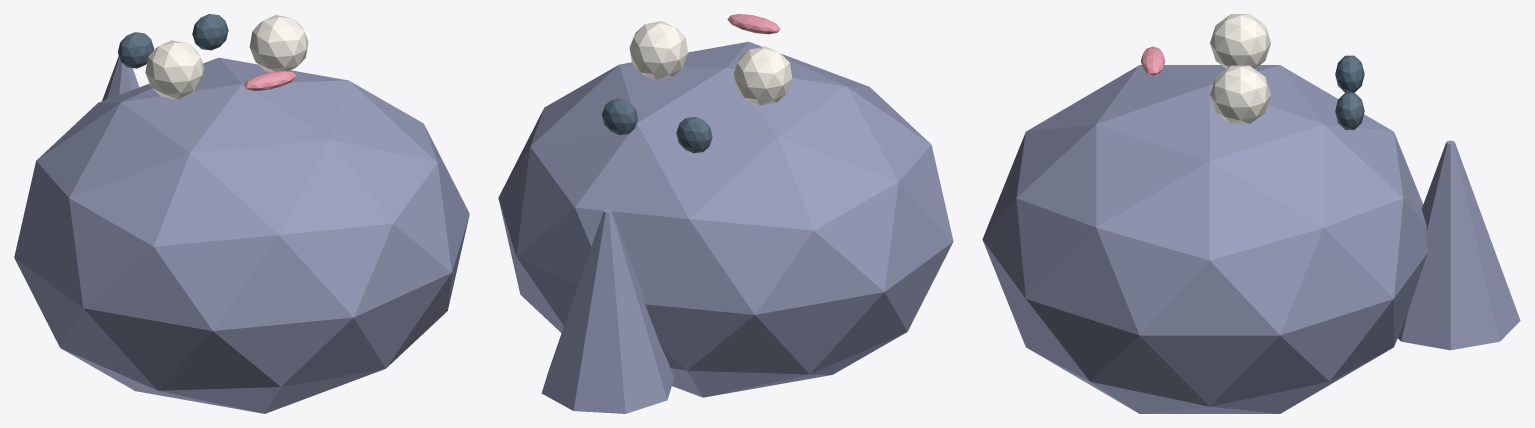
File: misdreavus.glb
3 renders of one model, left to right at view 1: azimuth 30°, elevation 25°; view 2: azimuth 150°, elevation 25°; view 3: azimuth 270°, elevation 25°, orthographic.
Visible parts, largest first — view 1: body, eyeL, eyeR, eye.001, eye, tip, mouth; view 2: body, tip, eyeL, eyeR, eye, eye.001, mouth; view 3: body, tip, eyeR, eyeL, eye, eye.001, mouth.
Part boxes in pixels (box(x1,y1,x2,y2)): body: box(14, 57, 469, 413); eyeL: box(145, 40, 204, 99); eyeR: box(249, 15, 308, 71); eye.001: box(192, 14, 228, 50); eye: box(118, 32, 153, 68); tip: box(102, 56, 138, 100); mouth: box(243, 70, 296, 90); body: box(498, 41, 953, 397); tip: box(541, 209, 674, 413); eyeL: box(733, 46, 792, 105); eyeR: box(629, 21, 688, 80); eye: box(676, 117, 712, 153); eye.001: box(602, 98, 637, 134); mouth: box(727, 14, 780, 34); body: box(982, 65, 1427, 413); tip: box(1398, 140, 1520, 350); eyeR: box(1210, 65, 1270, 123); eyeL: box(1210, 14, 1270, 68); eye: box(1335, 55, 1364, 92); eye.001: box(1335, 92, 1364, 129); mouth: box(1141, 46, 1165, 75).
Size of the model in its own units: 1.04 by 0.89 by 1.23.
